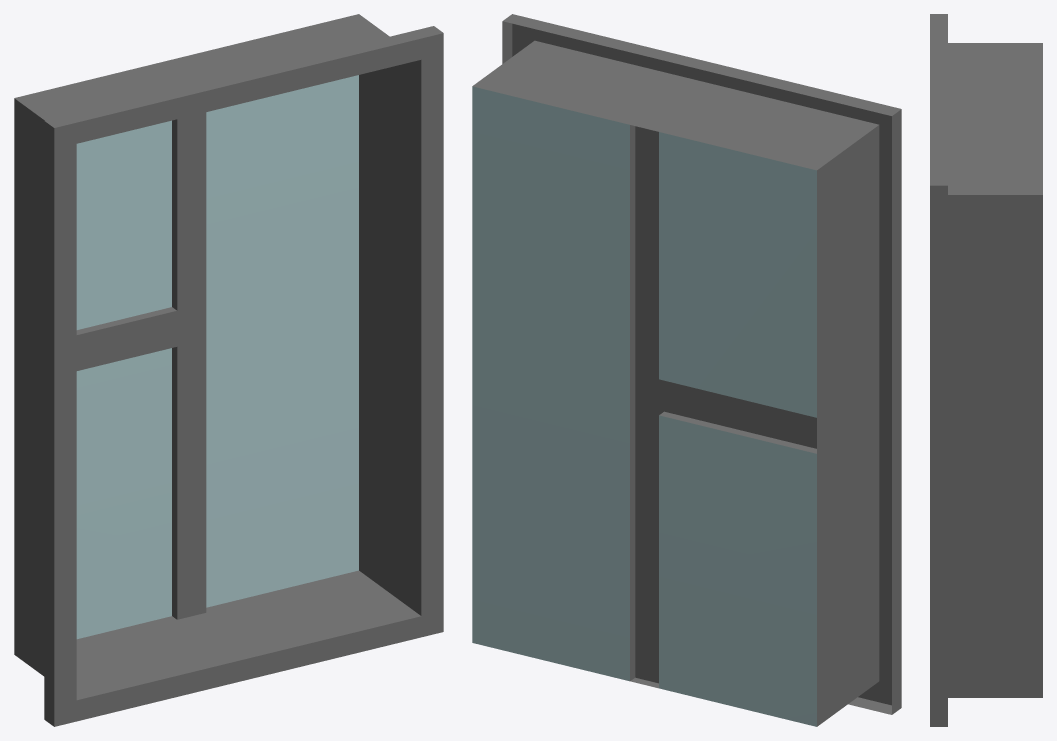
Rendered from Window 2.fbx.
3 views of the same model, side by side, from view 1: azimuth 30°, elevation 25°; view 2: azimuth 150°, elevation 25°; view 3: azimuth 270°, elevation 25° (orthographic). The views are drawn at different scales.
Parts seen in each view (by area): view 1: New Stekla.002; view 2: New Stekla.002; view 3: New Stekla.002.
Boxes of the visible parts, x1,y1,x2,y2 form: New Stekla.002: (14, 14, 443, 726); New Stekla.002: (472, 14, 901, 726); New Stekla.002: (930, 14, 1042, 726).
Size of the model in its own units: 215 by 316 by 59.74.
